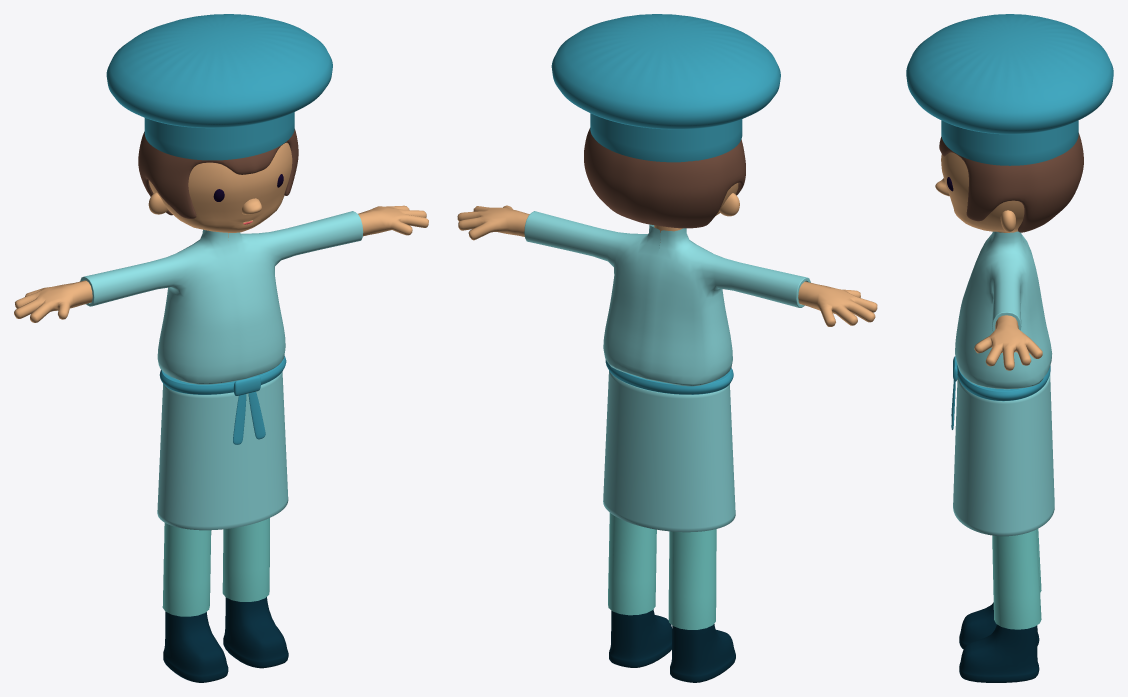
File: Character Male 2.fbx
3 views of the same model, side by side, from view 1: azimuth 30°, elevation 25°; view 2: azimuth 150°, elevation 25°; view 3: azimuth 270°, elevation 25° (orthographic).
Visible parts, largest first — view 1: Cap.001, Upper Body.001, long cover.001, legs.001, Shoes.001, Head.003, Hair.001, Hands.001, belt round.001; view 2: Cap.001, Upper Body.001, long cover.001, Hair.001, legs.001, Shoes.001, Hands.001, belt round.001; view 3: Cap.001, long cover.001, Upper Body.001, Hair.001, Shoes.001, legs.001, Head.003, Hands.001, belt round.001.
Part boxes in pixels (bbox=[...]): Cap.001: bbox=[106, 14, 332, 160]; Upper Body.001: bbox=[80, 211, 363, 384]; long cover.001: bbox=[157, 371, 288, 530]; legs.001: bbox=[162, 518, 269, 616]; Shoes.001: bbox=[163, 597, 288, 682]; Head.003: bbox=[148, 142, 292, 232]; Hair.001: bbox=[138, 129, 298, 218]; Hands.001: bbox=[14, 205, 428, 322]; belt round.001: bbox=[159, 355, 286, 394]; Cap.001: bbox=[551, 14, 780, 162]; Upper Body.001: bbox=[524, 211, 810, 386]; long cover.001: bbox=[603, 371, 735, 532]; Hair.001: bbox=[584, 128, 745, 228]; legs.001: bbox=[608, 513, 716, 629]; Shoes.001: bbox=[609, 609, 735, 682]; Hands.001: bbox=[457, 205, 877, 326]; belt round.001: bbox=[605, 360, 733, 394]; Cap.001: bbox=[906, 14, 1113, 165]; long cover.001: bbox=[953, 373, 1054, 536]; Upper Body.001: bbox=[955, 231, 1052, 389]; Hair.001: bbox=[939, 133, 1083, 232]; Shoes.001: bbox=[959, 602, 1039, 682]; legs.001: bbox=[992, 529, 1041, 629]; Head.003: bbox=[941, 152, 1024, 231]; Hands.001: bbox=[974, 315, 1042, 370]; belt round.001: bbox=[957, 365, 1050, 401].
Bounding box in the file's own units: 231 × 334 × 101.
